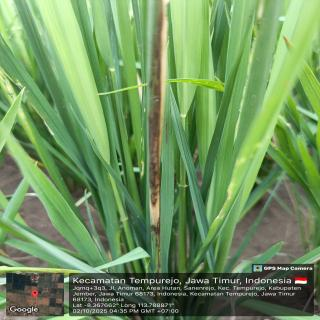Busuk-Pelepah: (145, 1, 164, 272)
